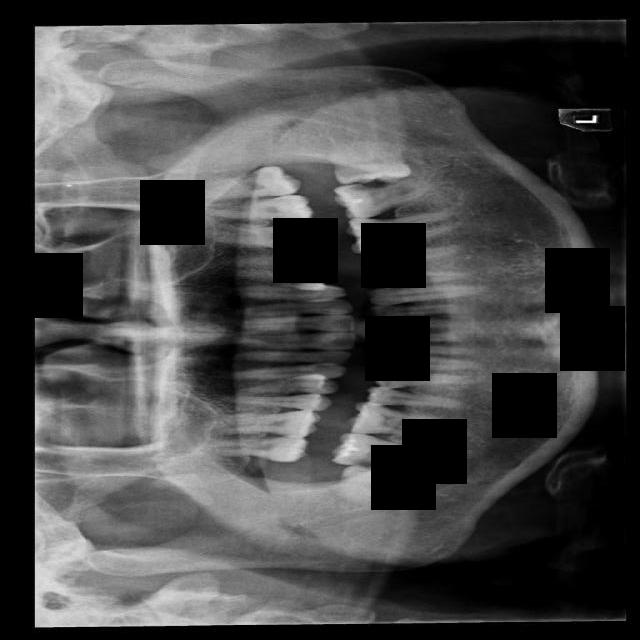52: (352, 182, 397, 191)
73: (552, 42, 558, 62)
BioHorizons Implant: (206, 194, 312, 221)
BioLife Implant: (193, 163, 301, 198)
Biomet 3i Implant: (328, 138, 413, 187)
Blue Sky Bio Implant: (333, 175, 431, 220)
Caries: (216, 433, 309, 468)
Implant: (330, 430, 427, 469)
Keystone Dental Implant: (336, 464, 411, 507)
